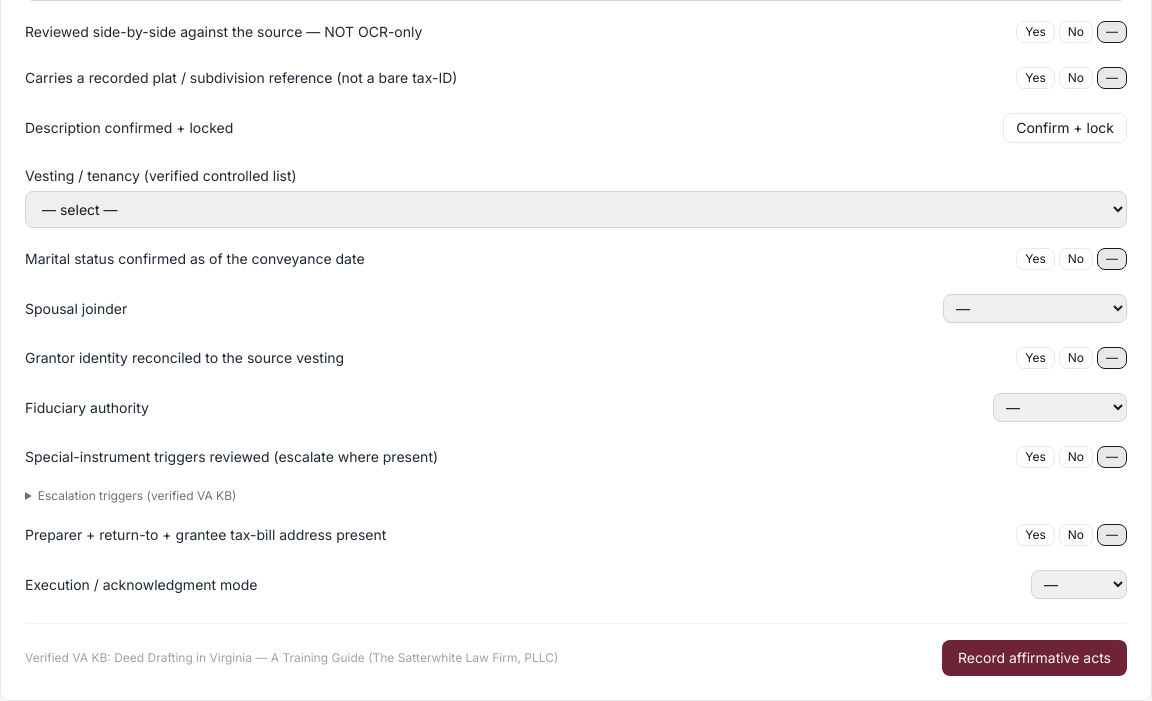
it: DeedGatePanel › the RON block (e-certificate recitals + verified ack forms) is hidden for wet-sign and shown for an e-notary / RON mode
The image size is (1152, 701).
(page scrolled)
# Wet-sign → still no RON block (no e-certificate recitals needed).
Select "wet_sign" in the dropdown with test id "deed-execution-mode" at [1079, 584], box [1031, 570, 1127, 599]
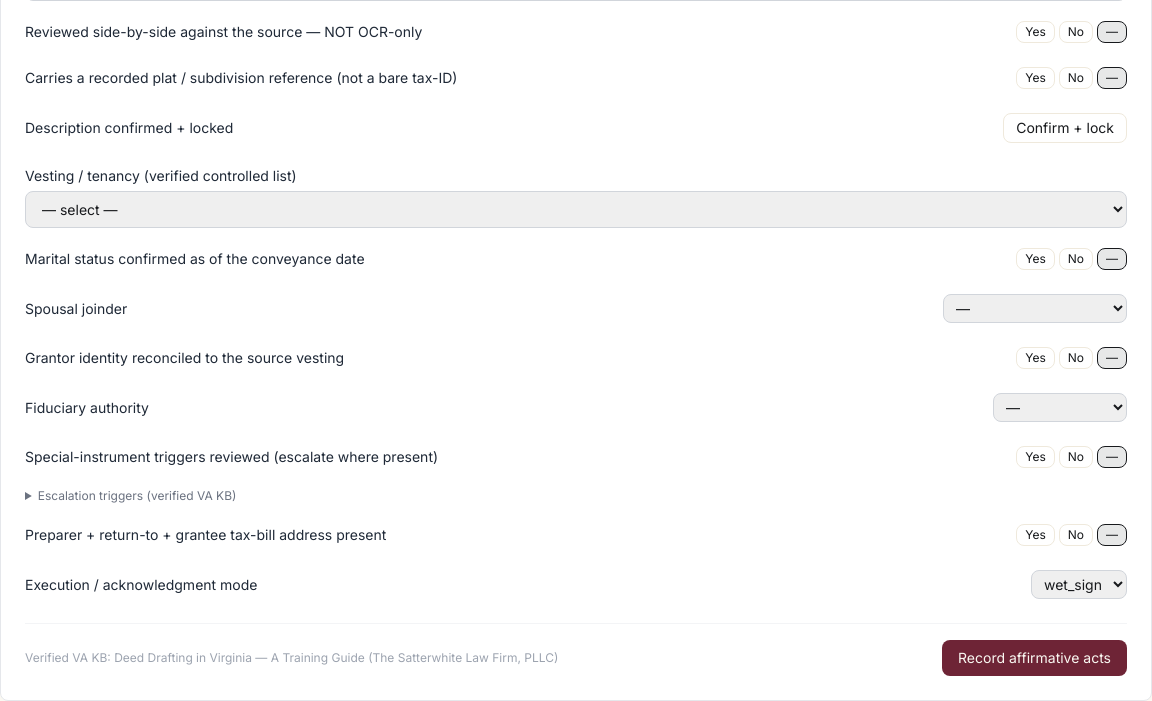
# RON → the § 47.1-16 e-certificate recitals control + the verified ack-forms reference appear.
Select "ron" in the dropdown with test id "deed-execution-mode" at [1079, 584], box [1031, 570, 1127, 599]
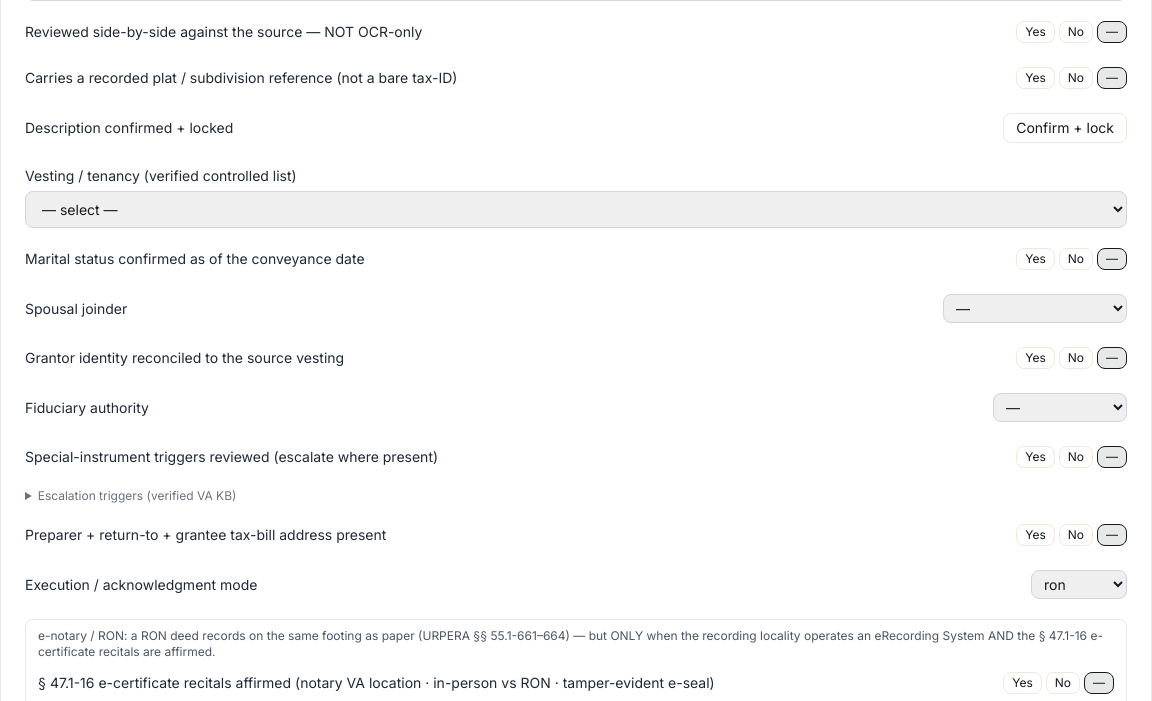
Check: the element with test id "deed-ecert-recitals" is shown, box [38, 668, 1114, 698]
